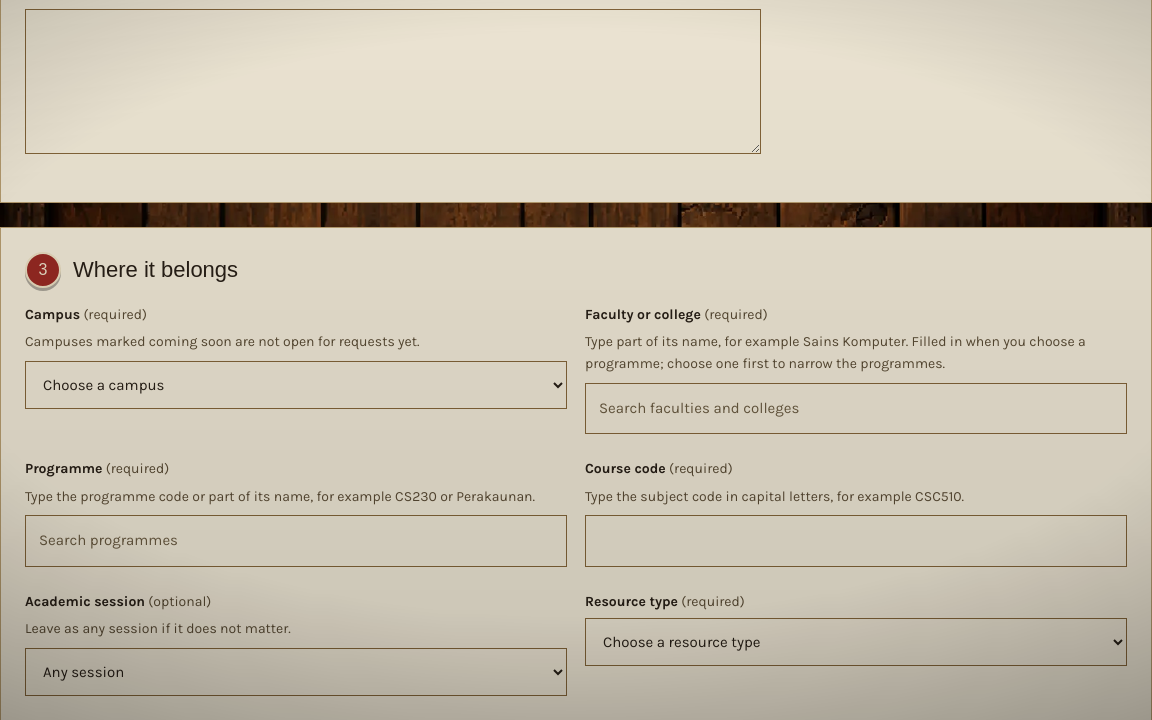
Scenario: an eligible Commissioner › is offered the institution's real published options
(page scrolled)
In the dropdown labelled "Faculty or college (required)": (856, 408) [585,383,1127,434], type "computing"
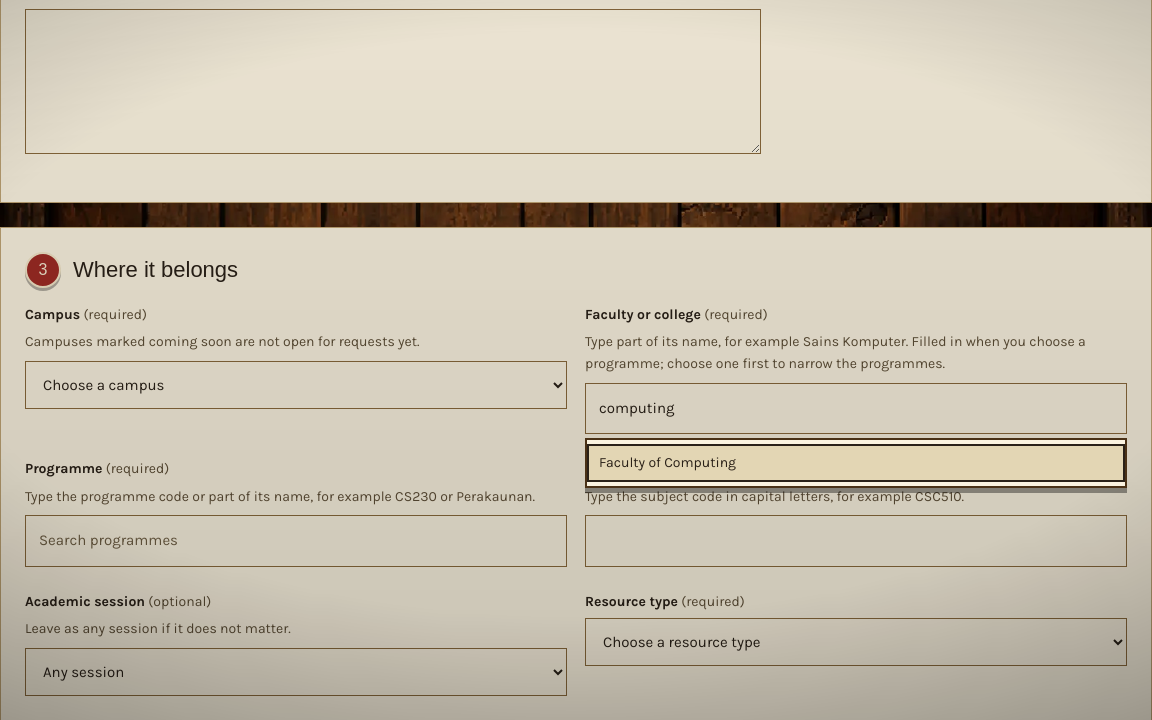
Expected: the option "Faculty of Computing" is shown, [587,444,1125,482]
